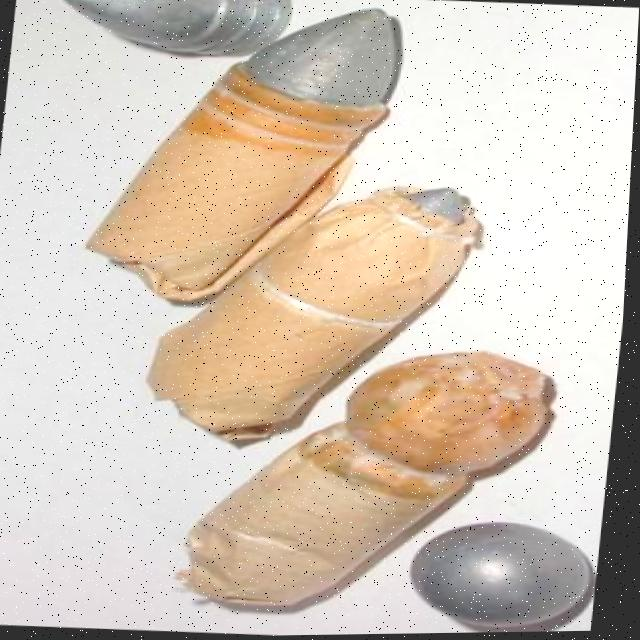grenade: (50, 0, 294, 59)
